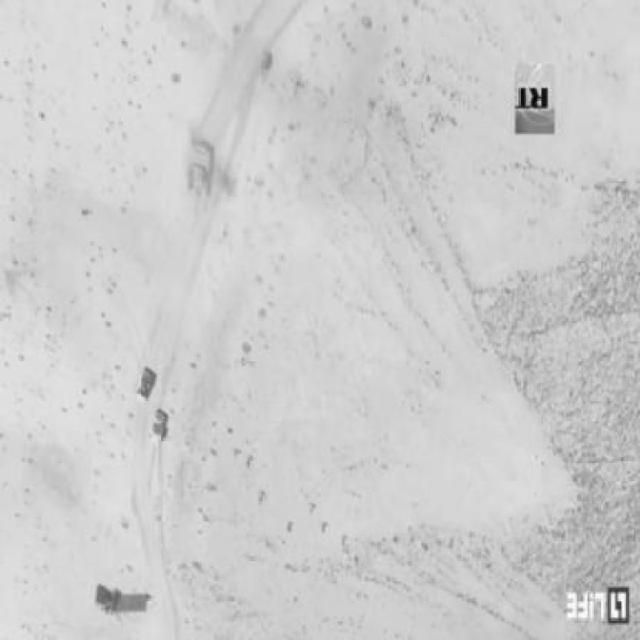Vehicle: (183, 137, 219, 210), (136, 364, 161, 410), (150, 411, 170, 453)
